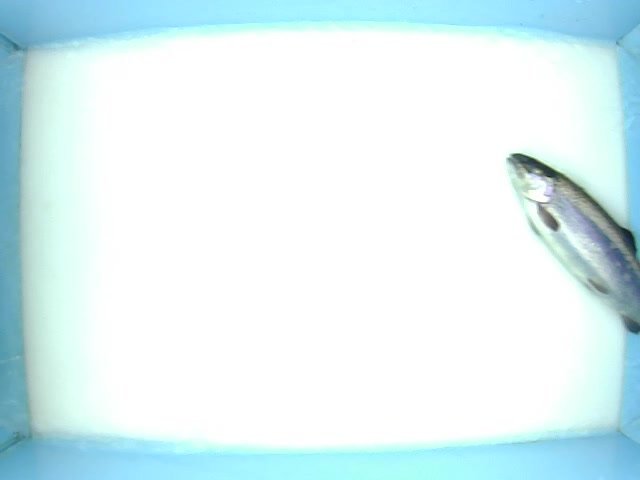fish: (499, 154, 640, 348)
